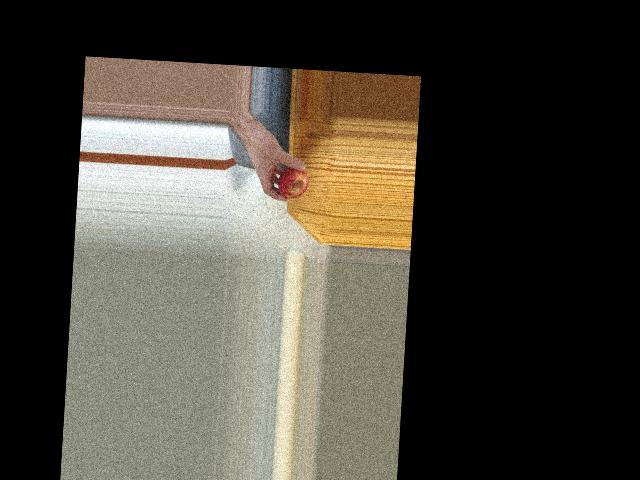apple: (274, 163, 308, 200)
